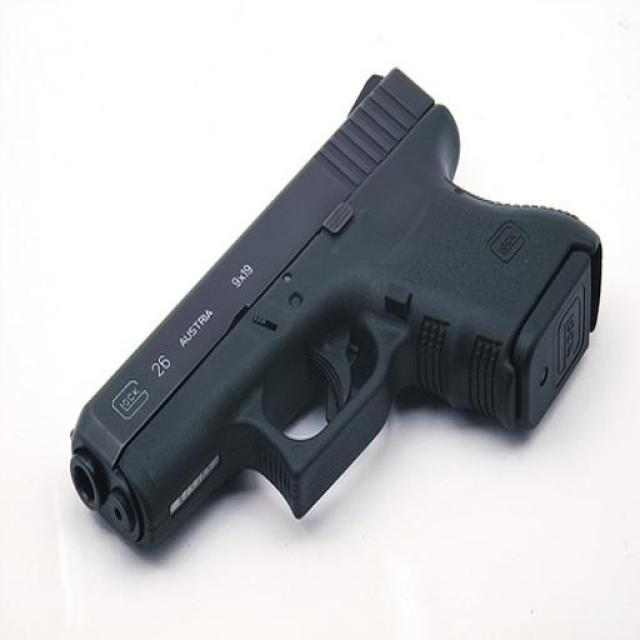pistol: (50, 66, 606, 556)
